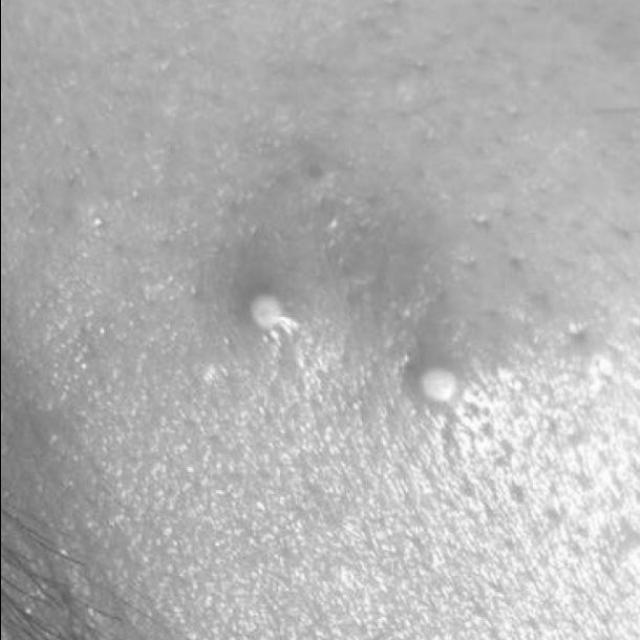pustule: (218, 264, 494, 468)
